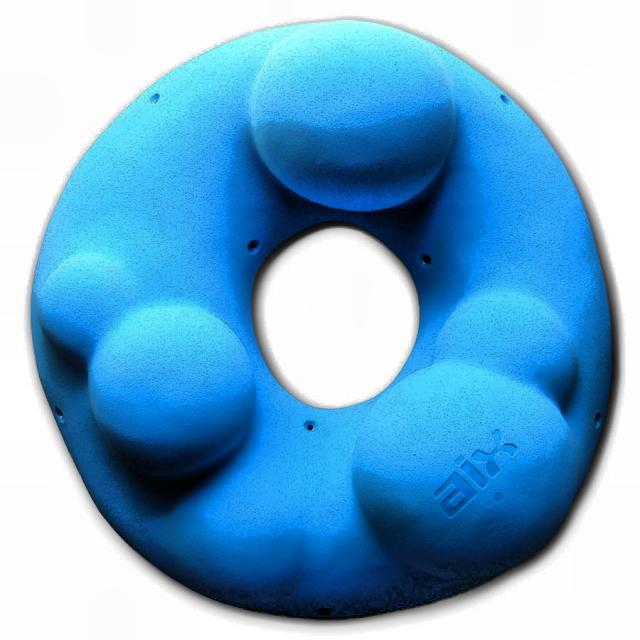Hold: (31, 16, 619, 617)
